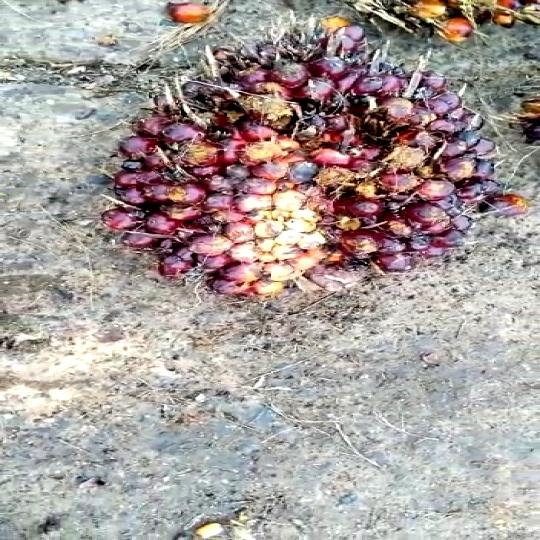masak: (101, 24, 522, 301)
